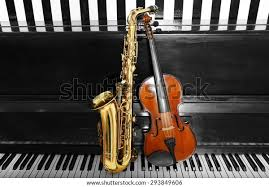Piano: (1, 72, 269, 187)
Saxophone: (88, 5, 160, 174)
Violin: (126, 6, 215, 168)
